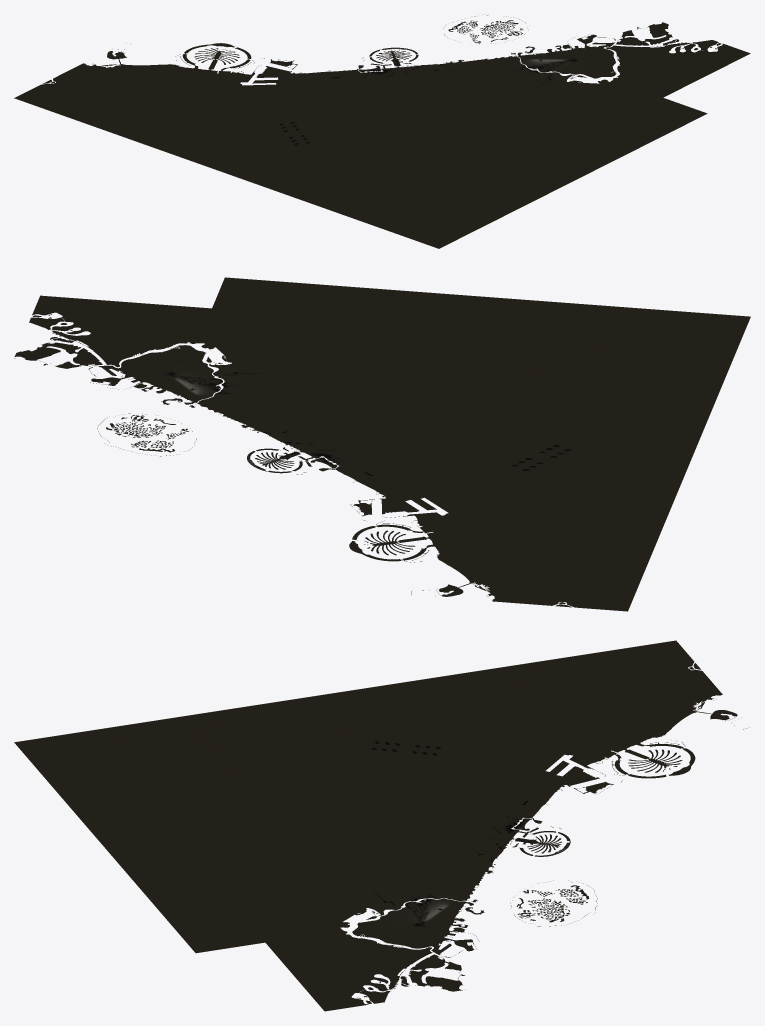
The model's file is LAND_BLACK.fbx.
The picture shows the model from 3 angles, top to bottom: view 1: azimuth 30°, elevation 25°; view 2: azimuth 150°, elevation 25°; view 3: azimuth 270°, elevation 25°; orthographic projection. The views are drawn at different scales.
Parts seen in each view (by area): view 1: LAND_BLACK; view 2: LAND_BLACK; view 3: LAND_BLACK.
Part boxes in pixels (x1,y1,x2,y2): LAND_BLACK: [14, 14, 750, 248]; LAND_BLACK: [14, 277, 750, 611]; LAND_BLACK: [14, 640, 747, 1011].
Size of the model in its own units: 74746 by 9.57e-05 by 62746.
Materials: 1 (1 with a texture image).
